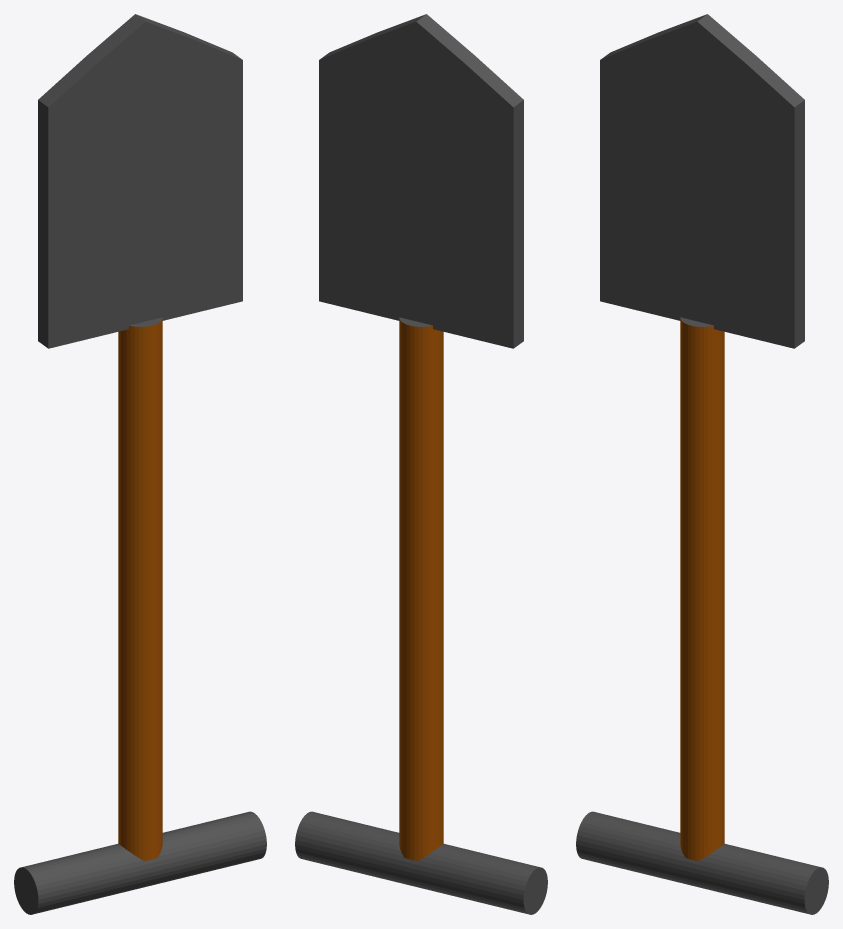
File: Shovel.fbx
3 views of the same model, side by side, from view 1: azimuth 30°, elevation 25°; view 2: azimuth 150°, elevation 25°; view 3: azimuth 330°, elevation 25° (orthographic).
Parts seen in each view (by area): view 1: Cylinder; view 2: Cylinder; view 3: Cylinder.
Boxes of the visible parts, x1,y1,x2,y2 form: Cylinder: [14, 14, 266, 914]; Cylinder: [295, 14, 547, 914]; Cylinder: [576, 14, 828, 914].
Size of the model in its own units: 56.53 by 205 by 10.46.
